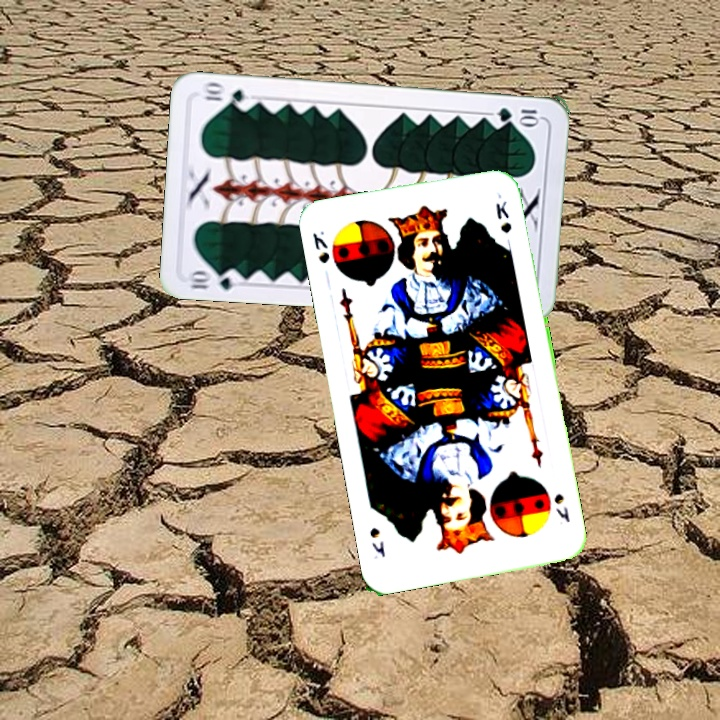G10: (184, 265, 244, 293), (494, 104, 544, 126)
SK: (308, 226, 332, 266), (550, 489, 572, 525)
